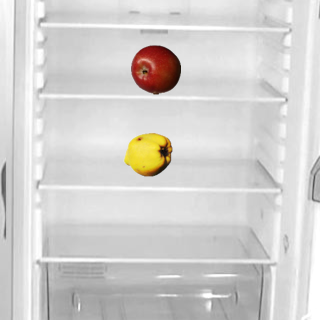Apple Braeburn: (130, 44, 180, 94)
Quince: (122, 129, 172, 179)
